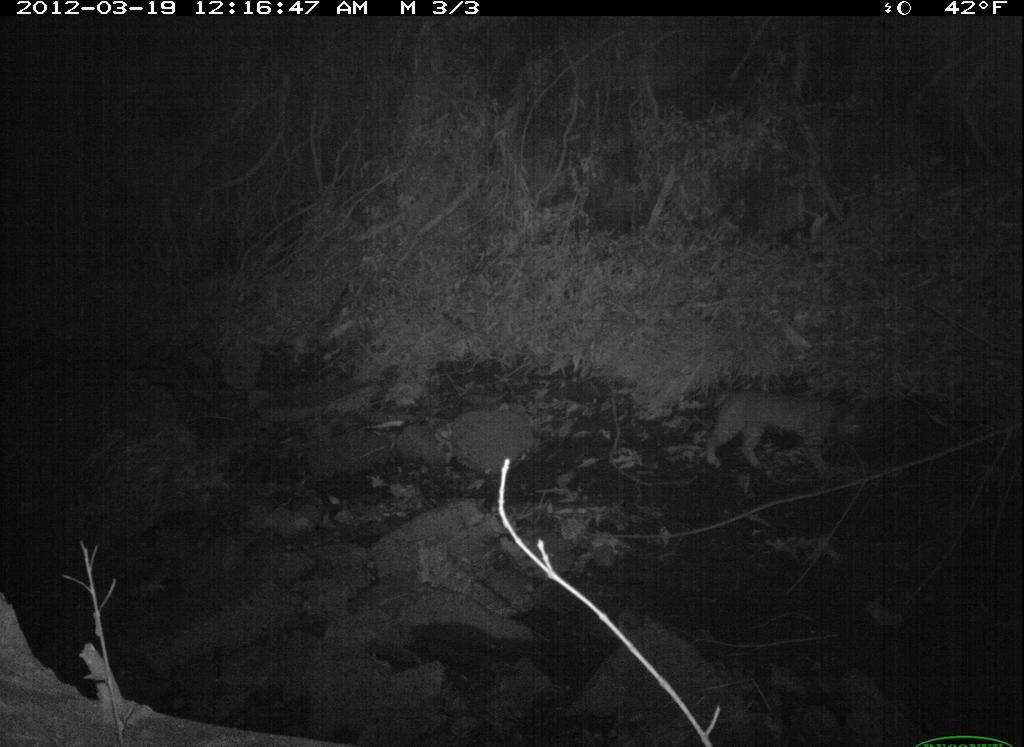bobcat: (699, 385, 873, 487)
